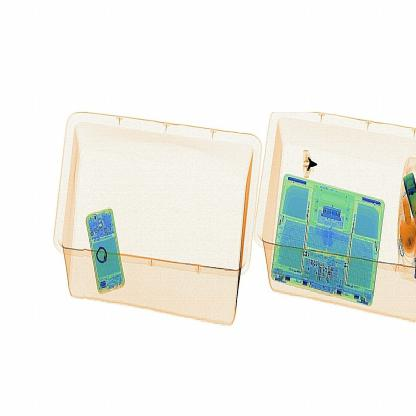gun: (298, 144, 321, 182)
